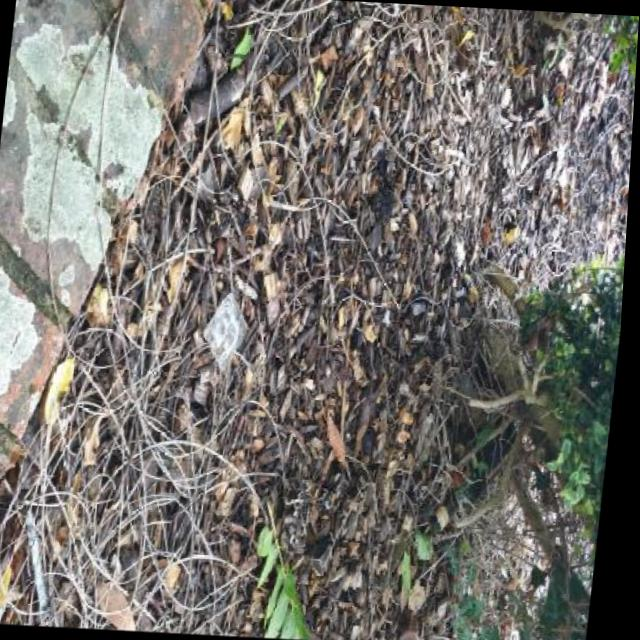plastic: (199, 292, 251, 373)
